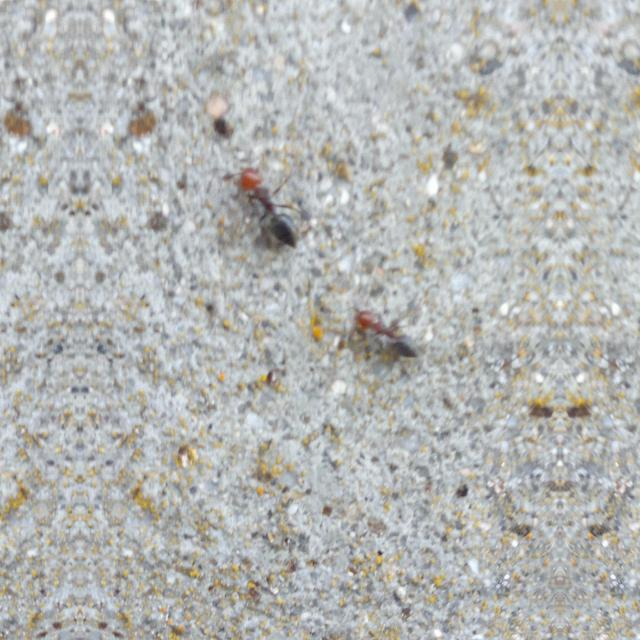Crematogaster: (234, 159, 312, 245), (350, 300, 430, 360)
